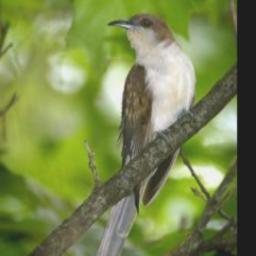Cuckoo: (88, 11, 198, 256)
